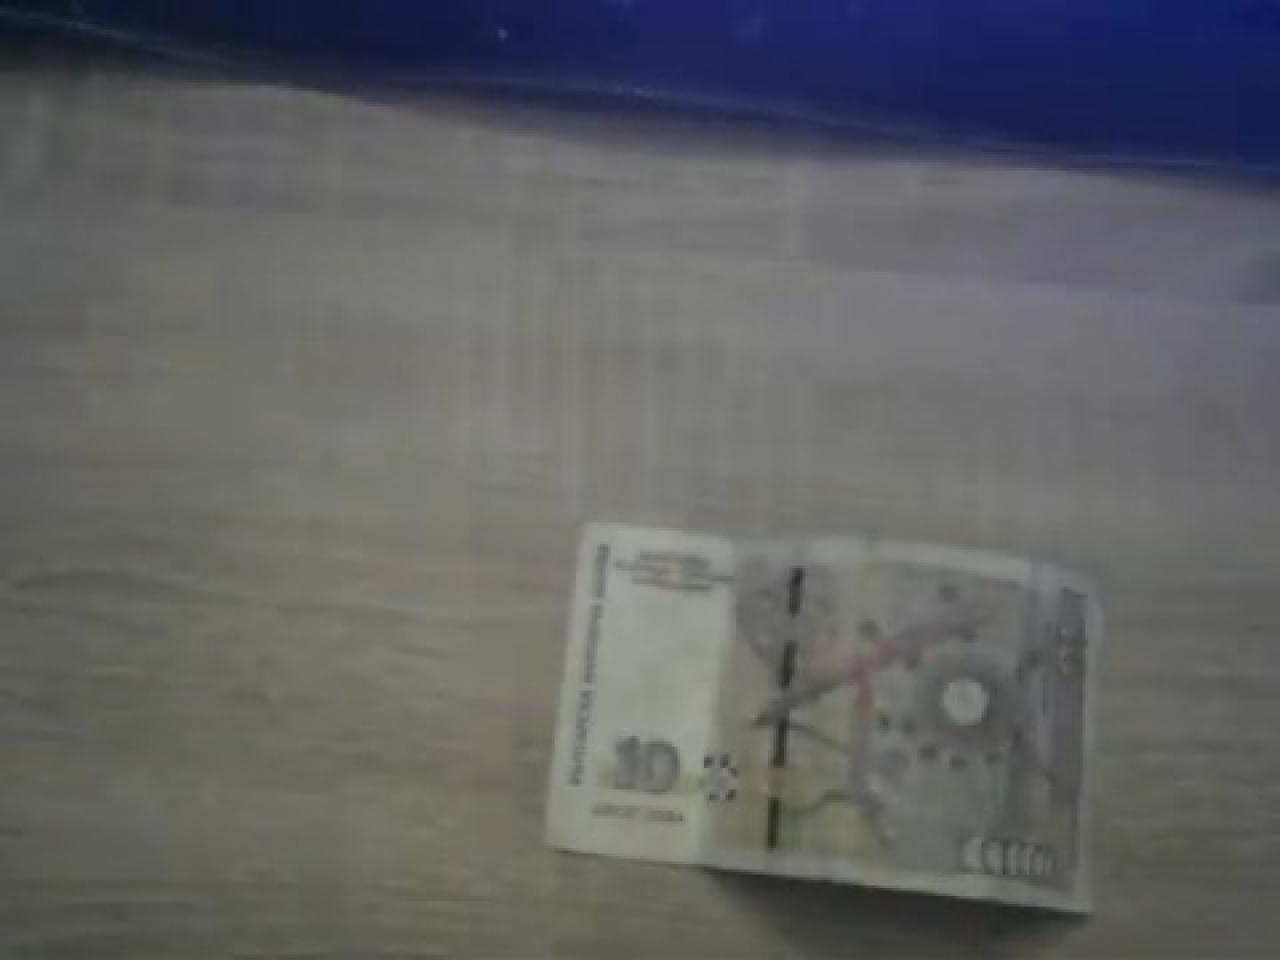10leva: (538, 522, 1107, 918)
